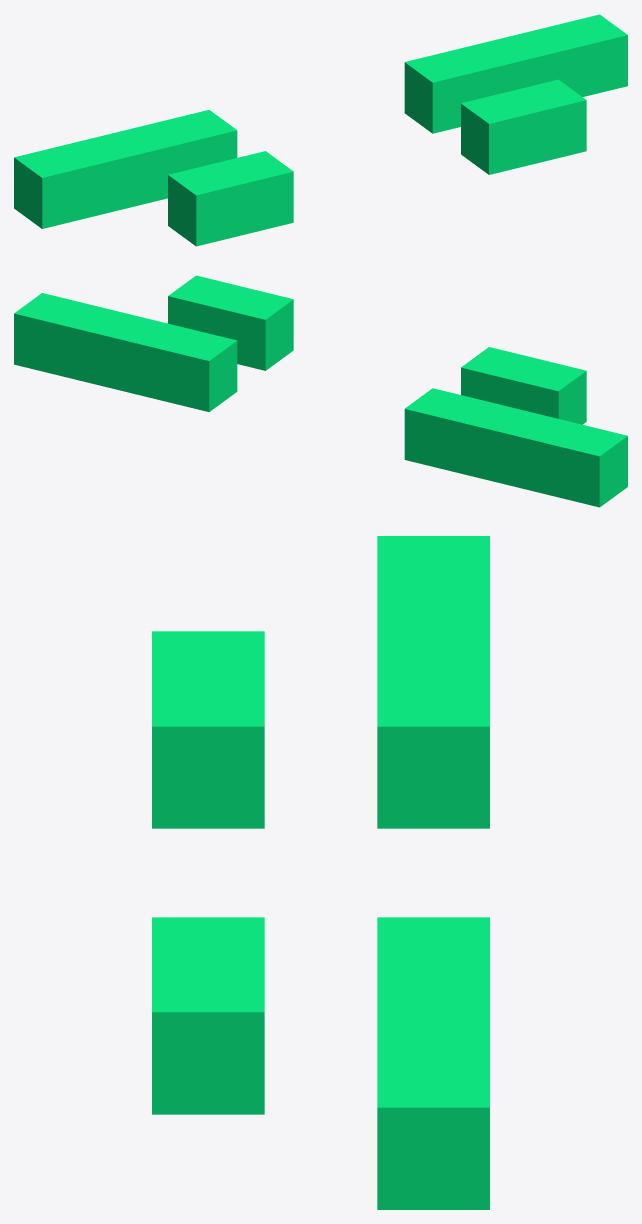
Rendered from nave4-verde.obj.
3 views of the same model, one above another, from view 1: azimuth 30°, elevation 25°; view 2: azimuth 150°, elevation 25°; view 3: azimuth 270°, elevation 25° (orthographic). The views are drawn at different scales.
Size of the model in its own units: 1.2 by 0.1 by 0.3.
Materials: 1 (1 with a texture image).
